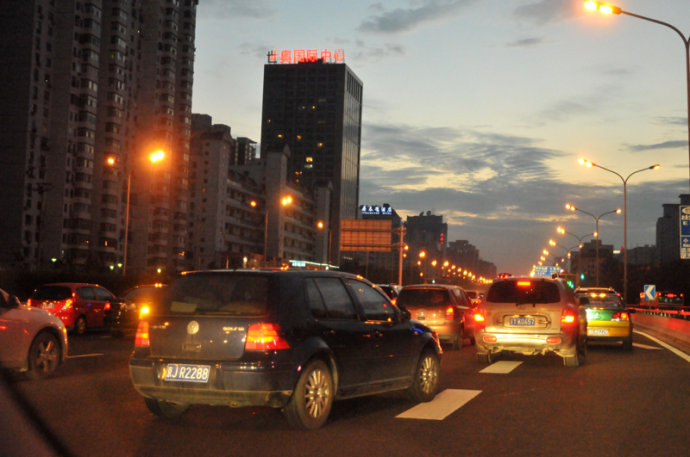car: (129, 268, 445, 428), (475, 274, 582, 367), (1, 287, 69, 381), (400, 283, 476, 349), (29, 280, 119, 332), (568, 283, 633, 347), (101, 282, 179, 334)
